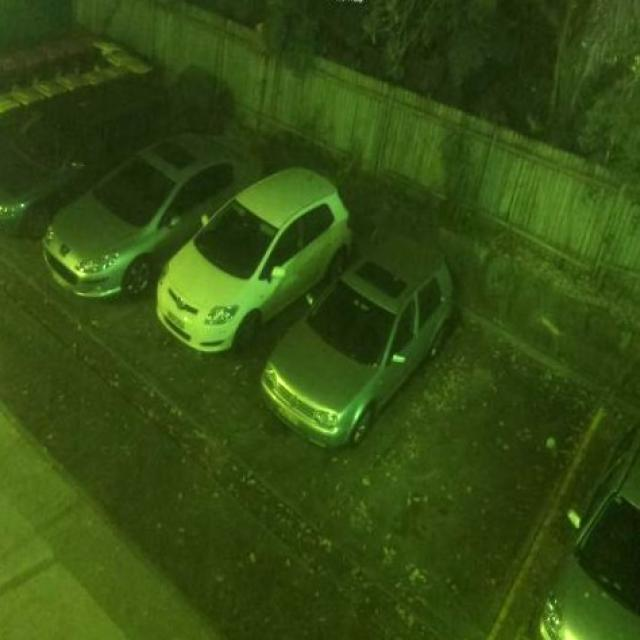Legalparking: (0, 71, 479, 503)
